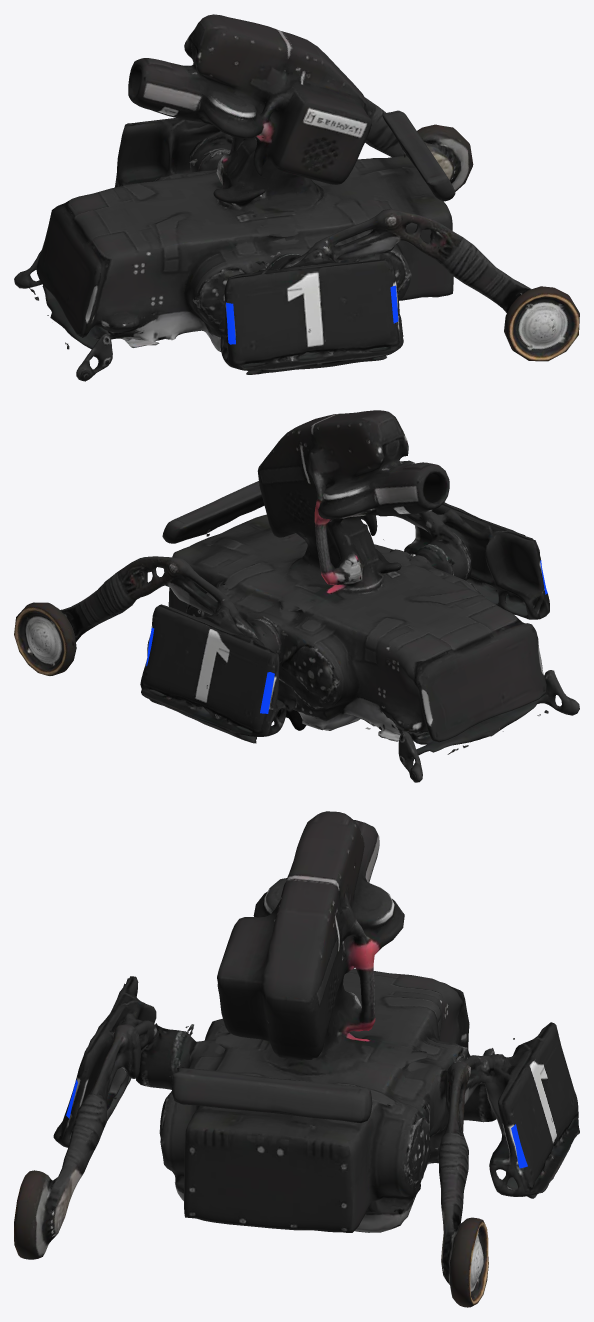
Rendered from hero.gltf.
The picture shows the model from 3 angles, top to bottom: view 1: azimuth 30°, elevation 25°; view 2: azimuth 150°, elevation 25°; view 3: azimuth 270°, elevation 25°; orthographic projection. The views are drawn at different scales.
Visible parts, largest first — view 1: hero; view 2: hero; view 3: hero.
Part boxes in pixels (x1,y1,x2,y2): hero: (14, 14, 579, 381); hero: (14, 410, 579, 782); hero: (14, 811, 579, 1307).
Size of the model in its own units: 0.86 by 0.5247 by 0.7604.
Materials: 2 (1 with a texture image).
